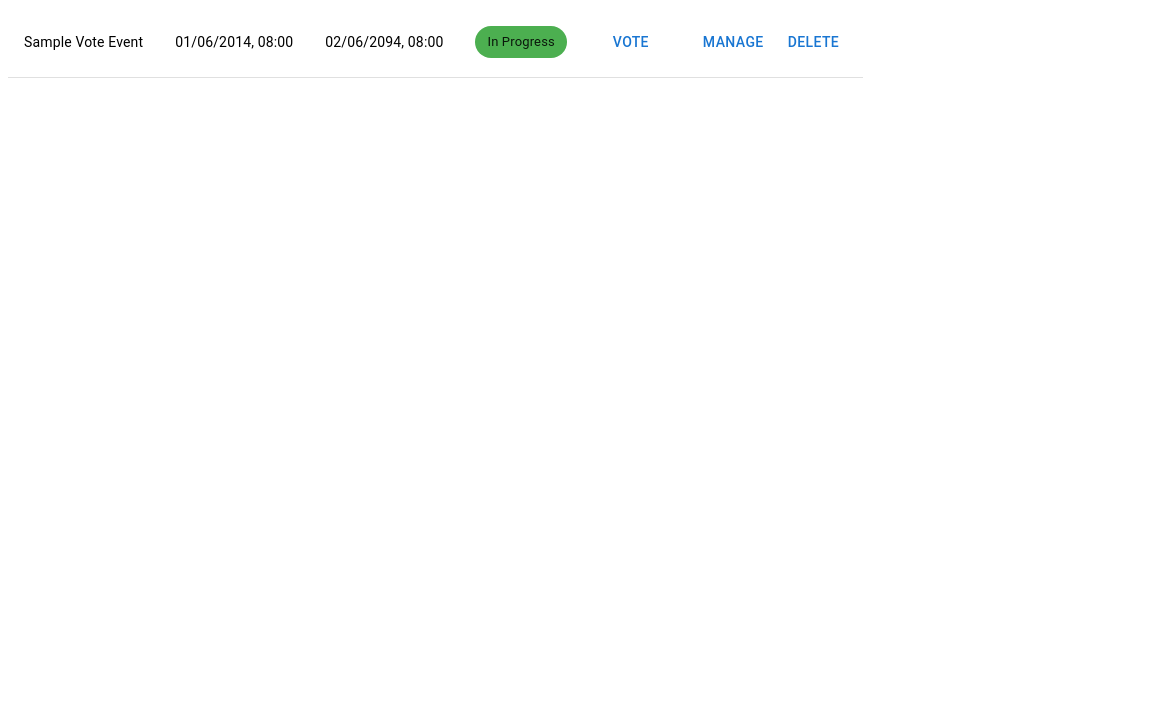
Test: <VoteEventRow /> › should open the delete modal when the delete button is clicked
The image size is (1152, 720).
Click the button "Delete": (814, 43) [780,24,848,61]
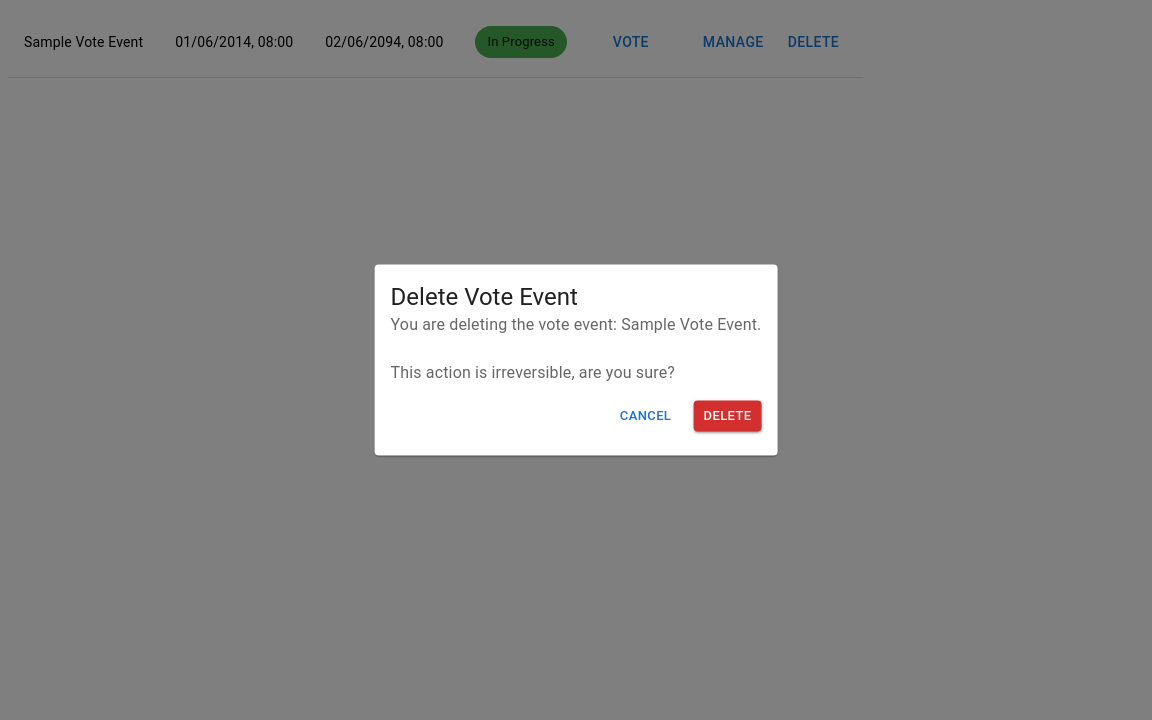
Check: the text "Delete Vote Event" is shown, box [391,283,578,311]
